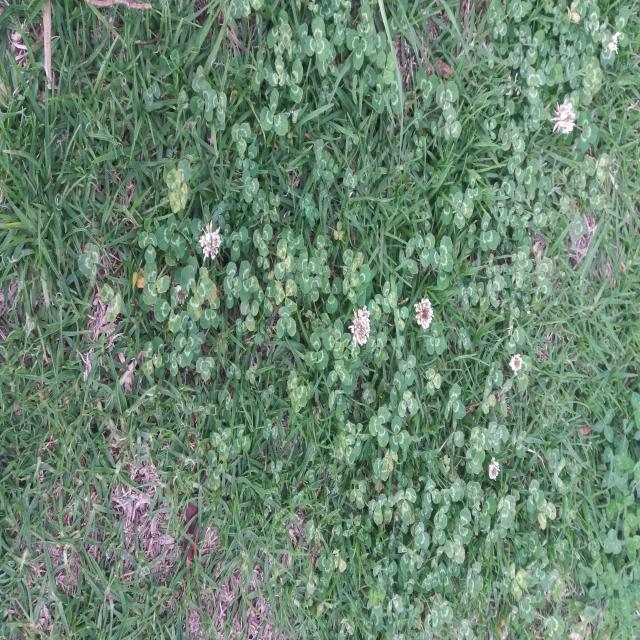Four Leaf Clover: (100, 283, 121, 322)
